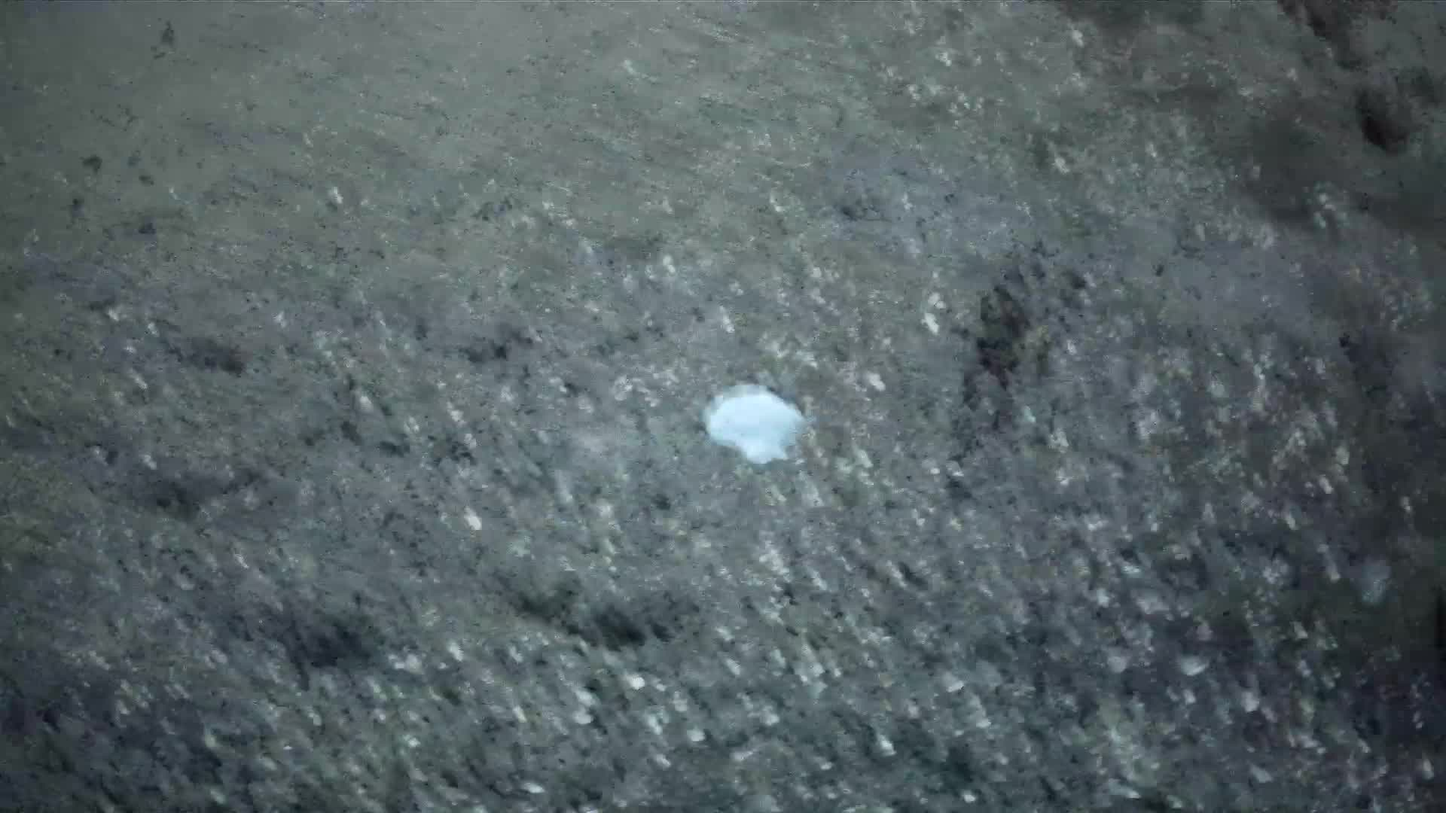Target: (698, 379, 817, 467)
